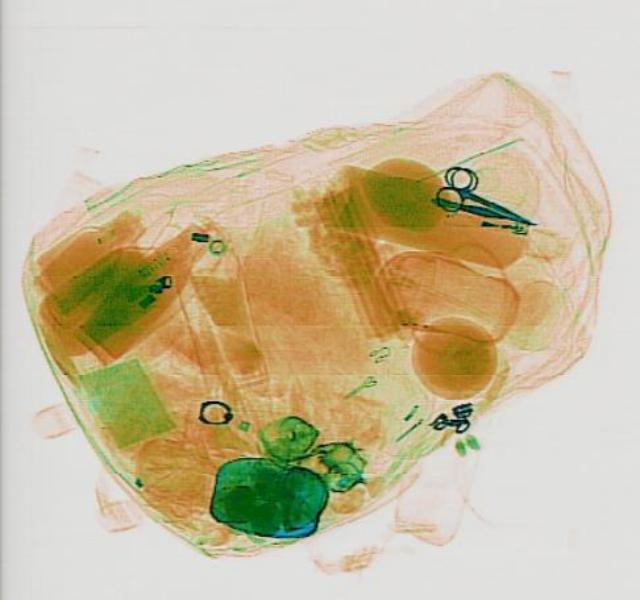Scissors: (425, 158, 541, 242)
